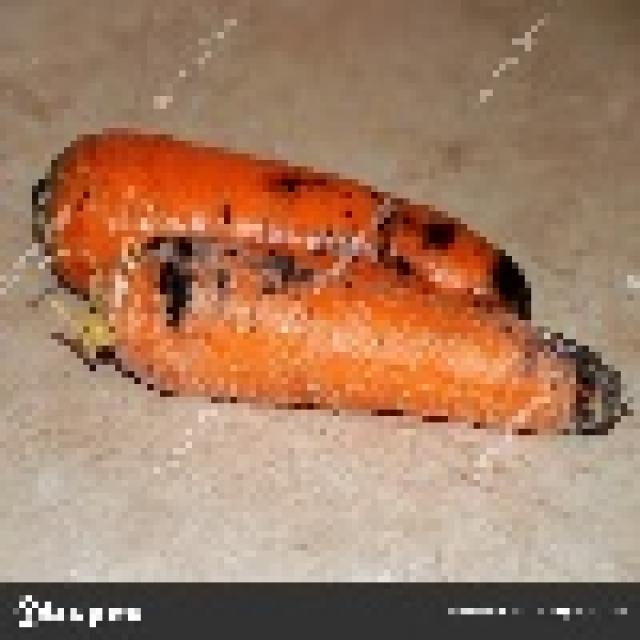Stale_Carrot: (41, 130, 576, 431)
